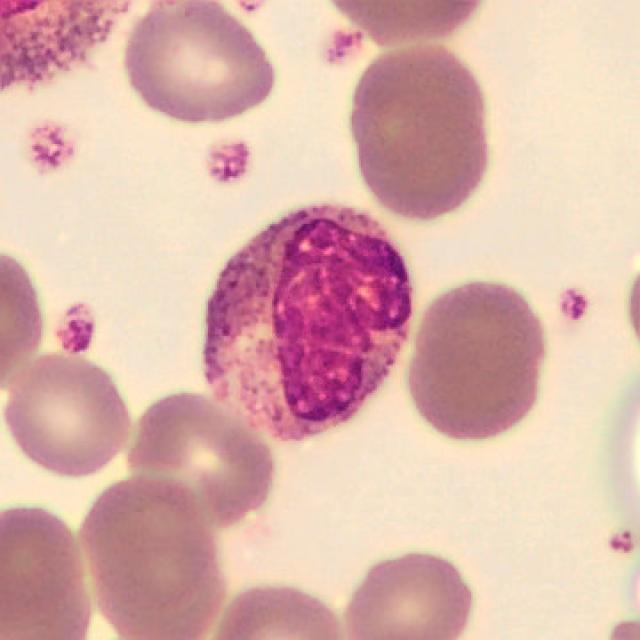Neutrofilo segmentado: (204, 206, 411, 439)
